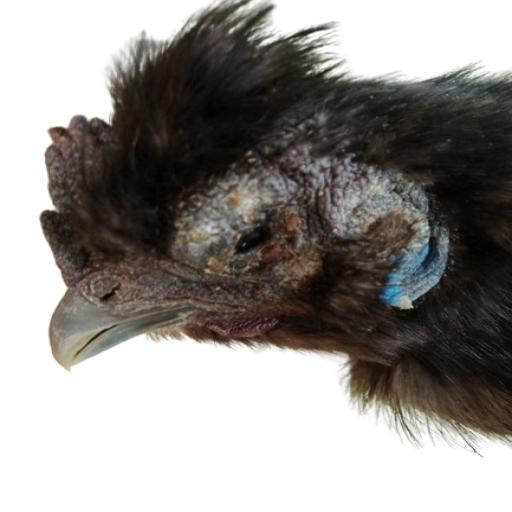disease: (125, 164, 309, 292)
